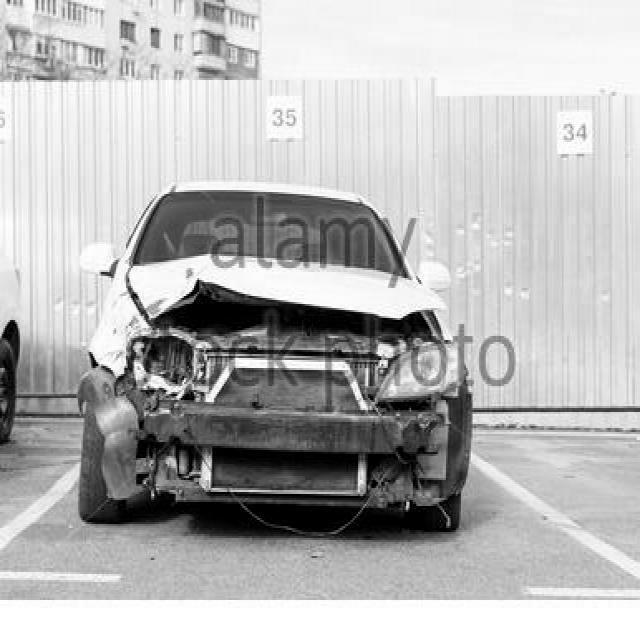bonnet-dent: (112, 258, 435, 334)
